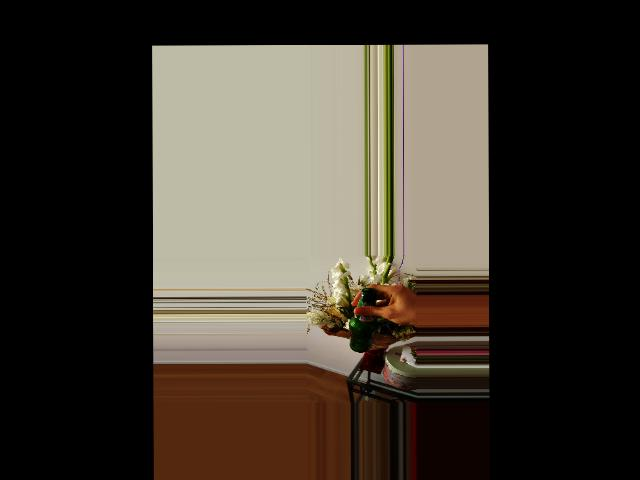beer: (349, 288, 378, 353)
